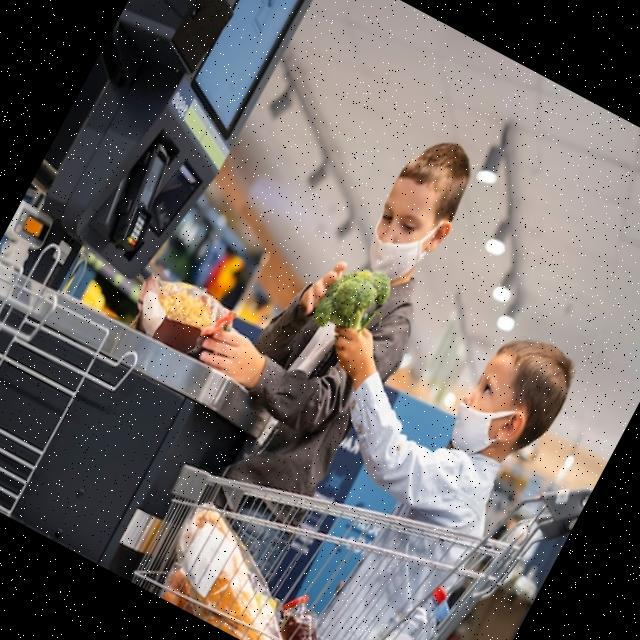Person: (115, 80, 506, 591), (188, 249, 588, 640)
